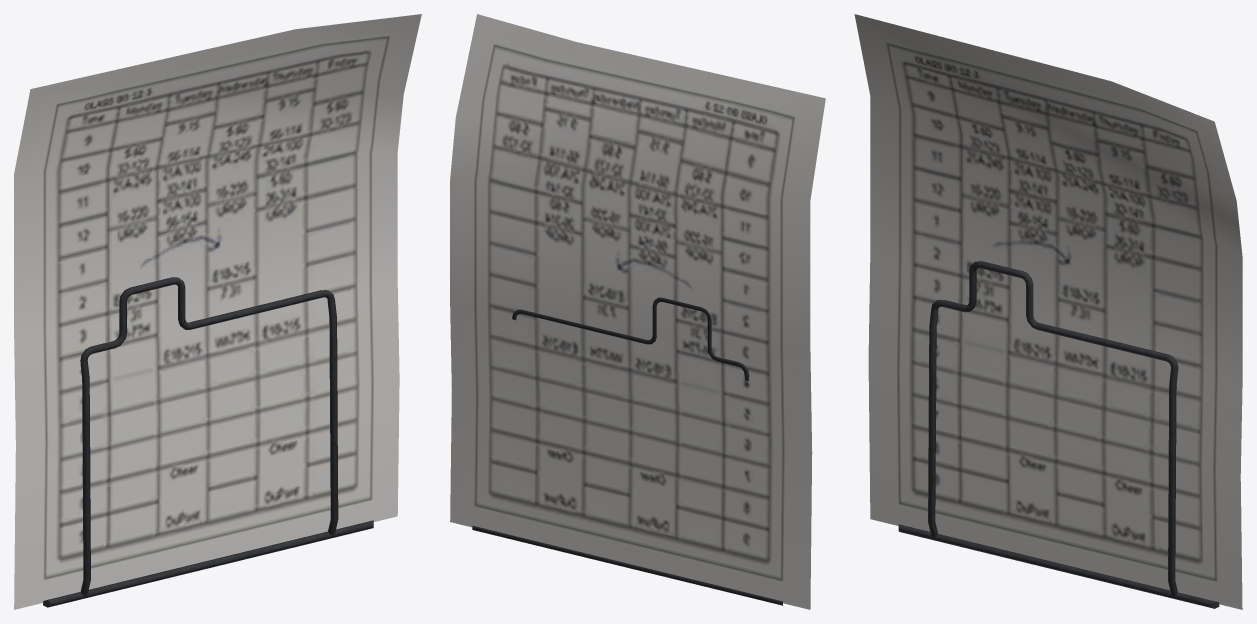
The model's file is scanroom_schedule01.dae.
3 views of the same model, side by side, from view 1: azimuth 30°, elevation 25°; view 2: azimuth 150°, elevation 25°; view 3: azimuth 330°, elevation 25° (orthographic). The views are drawn at different scales.
Parts seen in each view (by area): view 1: polySurface253; view 2: polySurface253; view 3: polySurface253.
Part boxes in pixels (x1,y1,x2,y2): polySurface253: [14, 14, 421, 609]; polySurface253: [450, 14, 825, 609]; polySurface253: [854, 14, 1242, 609].
Size of the model in its own units: 28.64 by 38.28 by 3.43.
